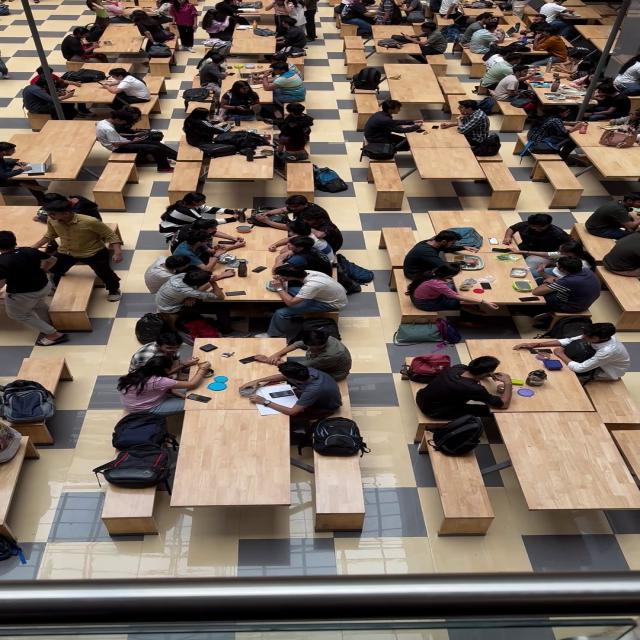Occupied: (152, 192, 350, 324), (144, 335, 358, 412), (1, 213, 120, 315), (433, 343, 600, 412), (190, 216, 310, 308), (406, 246, 545, 318), (180, 96, 316, 156), (2, 120, 106, 192), (116, 356, 210, 417), (250, 323, 352, 379), (516, 320, 630, 370), (94, 111, 177, 172), (265, 265, 348, 324), (58, 76, 164, 119), (502, 214, 576, 273), (564, 124, 640, 180), (402, 231, 477, 285), (532, 256, 602, 312), (158, 196, 240, 242), (0, 207, 80, 253), (151, 268, 232, 313), (521, 70, 590, 119), (22, 68, 86, 120), (202, 142, 275, 187), (385, 63, 447, 115), (0, 143, 52, 204), (170, 225, 243, 268), (181, 108, 245, 157), (279, 210, 343, 256), (524, 105, 584, 154), (362, 99, 424, 146), (272, 236, 337, 280), (426, 210, 512, 243), (249, 195, 320, 233), (584, 196, 640, 240), (443, 99, 494, 147), (363, 40, 430, 76), (342, 15, 426, 43), (225, 58, 299, 88), (273, 104, 314, 155), (94, 24, 148, 62), (481, 54, 530, 95), (261, 63, 306, 107), (581, 84, 631, 122), (61, 27, 108, 64), (392, 21, 445, 53), (167, 0, 200, 51), (202, 6, 242, 48), (228, 28, 277, 62), (132, 10, 175, 48), (220, 80, 260, 120), (546, 48, 593, 81), (526, 30, 570, 64), (270, 18, 308, 57), (458, 1, 521, 24), (464, 20, 506, 54), (338, 1, 376, 36), (85, 0, 127, 31), (534, 0, 582, 27), (197, 55, 230, 93), (612, 56, 640, 95), (558, 4, 608, 25), (214, 0, 251, 26), (284, 0, 308, 30), (392, 0, 423, 23), (144, 0, 174, 18)
Unoccupied: (496, 409, 640, 512), (165, 409, 292, 512), (5, 358, 72, 444), (433, 456, 501, 528), (402, 148, 492, 200), (311, 447, 366, 532), (100, 476, 162, 536), (582, 368, 640, 428), (0, 437, 27, 543), (48, 274, 96, 324), (92, 157, 139, 207), (535, 161, 586, 206), (382, 227, 422, 284), (475, 162, 523, 208), (607, 428, 640, 490), (368, 162, 406, 208), (578, 222, 618, 263), (166, 155, 204, 192), (437, 76, 470, 114), (575, 26, 612, 56), (353, 93, 382, 129), (286, 162, 314, 195), (143, 76, 168, 109), (144, 48, 172, 77), (344, 48, 369, 77), (460, 43, 488, 66), (136, 93, 162, 116), (26, 109, 52, 131)
